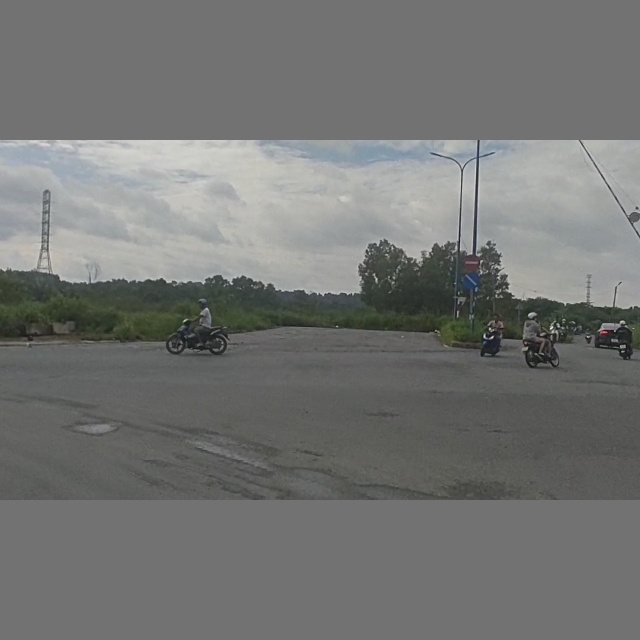P.102: (464, 253, 481, 271)
R.302a: (460, 271, 480, 289)
